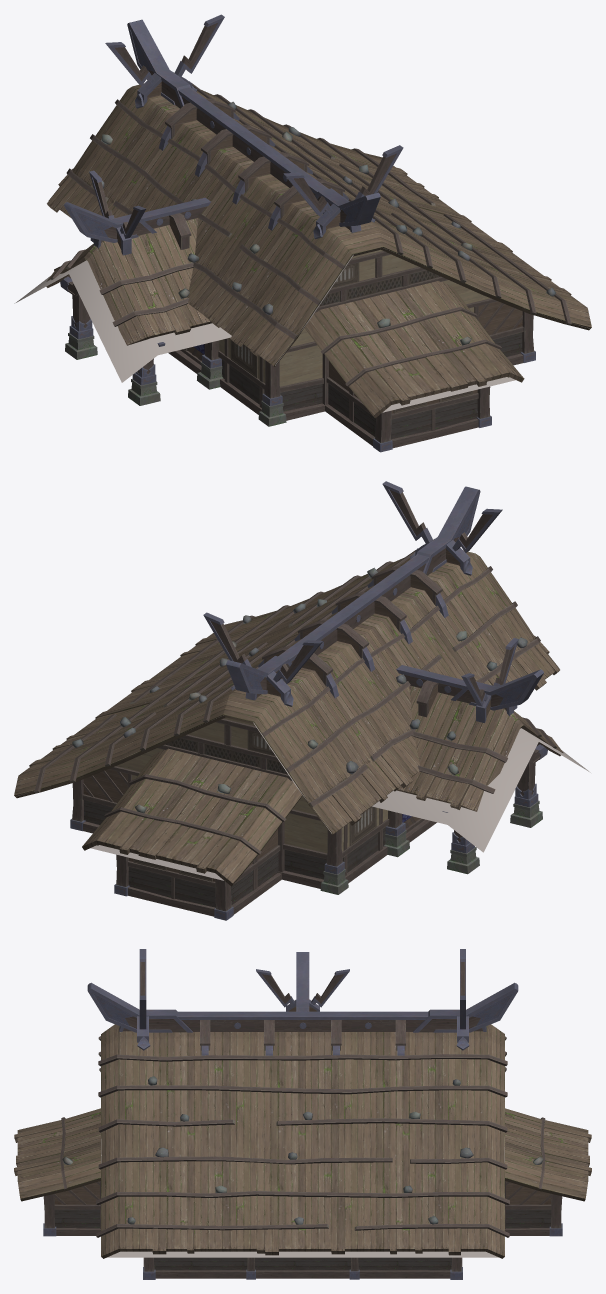
The model's file is Homeworld_Exterior_Dq_Build_House_26_Lod0.fbx.
The picture shows the model from 3 angles, top to bottom: view 1: azimuth 30°, elevation 25°; view 2: azimuth 150°, elevation 25°; view 3: azimuth 270°, elevation 25°; orthographic projection. The views are drawn at different scales.
Visible parts, largest first — view 1: Area_Dq_Build_SWZ_Mfjunying_01_Lod0, Area_Dq_Build_SWZ_Mfjunying_01_Ocl; view 2: Area_Dq_Build_SWZ_Mfjunying_01_Lod0, Area_Dq_Build_SWZ_Mfjunying_01_Ocl; view 3: Area_Dq_Build_SWZ_Mfjunying_01_Lod0, Area_Dq_Build_SWZ_Mfjunying_01_Ocl.
Part boxes in pixels (x1,y1,x2,y2): Area_Dq_Build_SWZ_Mfjunying_01_Lod0: (46,14,591,452); Area_Dq_Build_SWZ_Mfjunying_01_Ocl: (14,250,590,412); Area_Dq_Build_SWZ_Mfjunying_01_Lod0: (14,481,563,920); Area_Dq_Build_SWZ_Mfjunying_01_Ocl: (15,715,590,880); Area_Dq_Build_SWZ_Mfjunying_01_Lod0: (14,949,591,1279); Area_Dq_Build_SWZ_Mfjunying_01_Ocl: (101,1139,504,1257).
Size of what is drawn, in the model's own units: 19.53 by 10.92 by 25.87.
